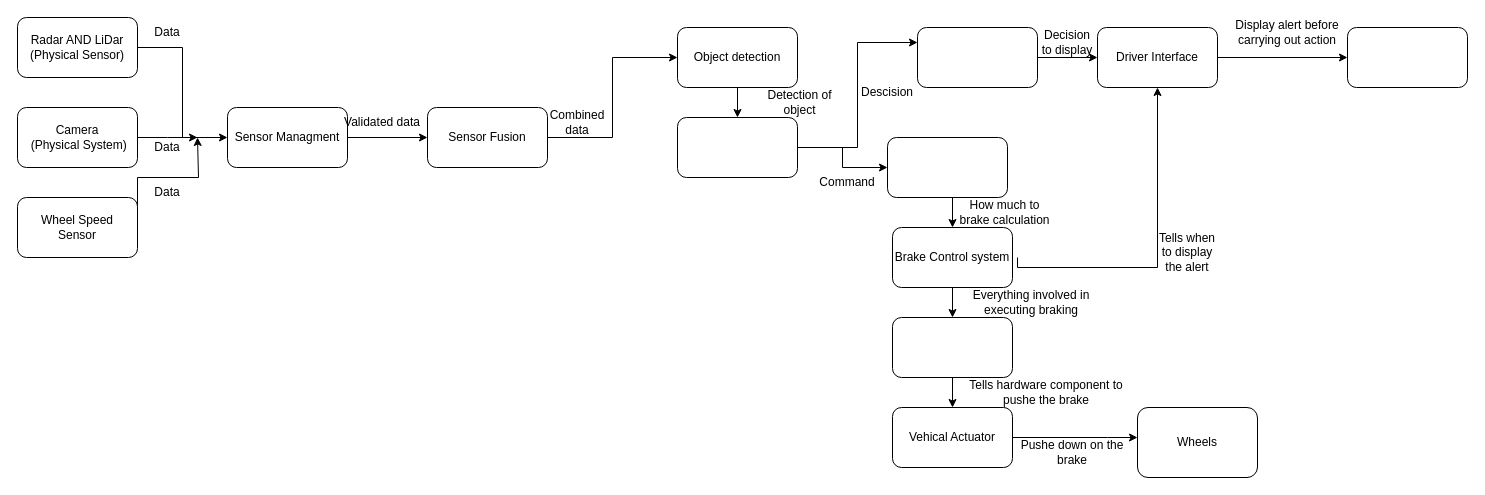
The diagram is 1485 pixels wide and 495 high, and some of its shapes have lost their labels. The centre of each missing label's shape, as x and y in pixels:
Brake Actuator: [952,347]
Brake control Module: [947,167]
Descision System: [737,147]
Driver interface Controller: [977,57]
Physical steering: [1407,57]
